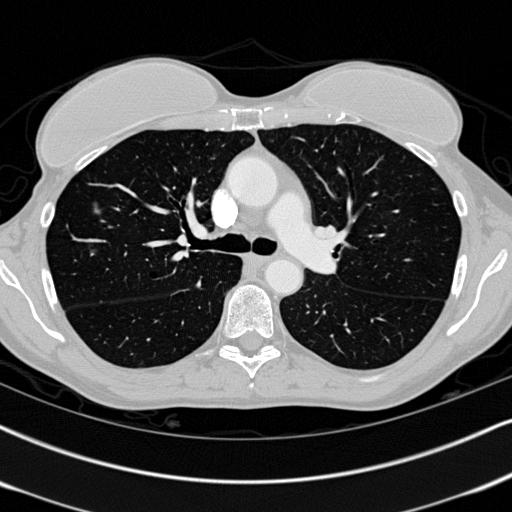nodule: (90, 204, 101, 215)
